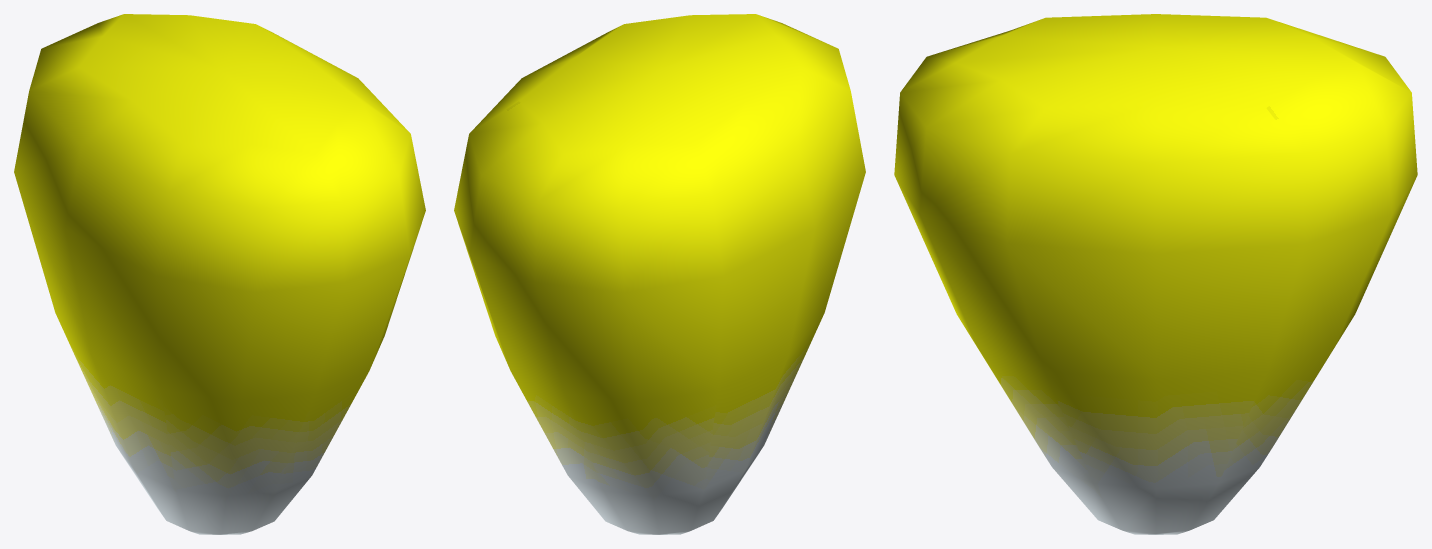
Rendered from corn.fbx.
The picture shows the model from 3 angles, left to right: view 1: azimuth 30°, elevation 25°; view 2: azimuth 150°, elevation 25°; view 3: azimuth 270°, elevation 25°; orthographic projection. The views are drawn at different scales.
Visible parts, largest first — view 1: Cone; view 2: Cone; view 3: Cone.
Boxes of the visible parts, x1,y1,x2,y2 form: Cone: [14, 14, 425, 534]; Cone: [454, 14, 865, 534]; Cone: [894, 14, 1417, 534].
Size of the model in its own units: 39.13 by 54.63 by 54.64.
Materials: 1 (1 with a texture image).
